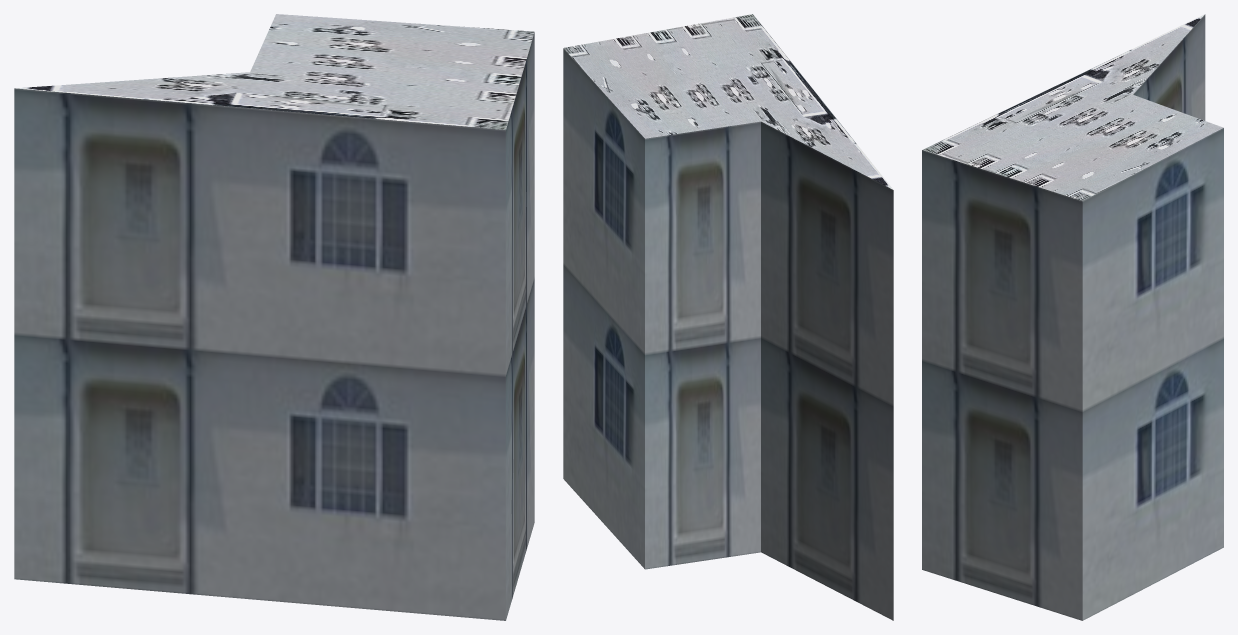
File: ResTex__4962.fbx
3 views of the same model, side by side, from view 1: azimuth 30°, elevation 25°; view 2: azimuth 150°, elevation 25°; view 3: azimuth 270°, elevation 25° (orthographic). The views are drawn at different scales.
Parts seen in each view (by area): view 1: CityEngineMaterial_17_m, CityEngineMaterial_4_m; view 2: CityEngineMaterial_17_m, CityEngineMaterial_4_m; view 3: CityEngineMaterial_17_m, CityEngineMaterial_4_m.
Part boxes in pixels (x1,y1,x2,y2): CityEngineMaterial_17_m: [14, 32, 534, 620]; CityEngineMaterial_4_m: [16, 14, 534, 129]; CityEngineMaterial_17_m: [563, 48, 893, 620]; CityEngineMaterial_4_m: [563, 14, 893, 189]; CityEngineMaterial_17_m: [922, 14, 1223, 620]; CityEngineMaterial_4_m: [923, 14, 1223, 200].
Bounding box in the file's own units: 5.74 × 6 × 3.91.
2 materials, 2 textured.
